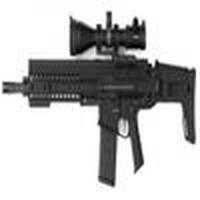gun: (1, 12, 198, 149)
